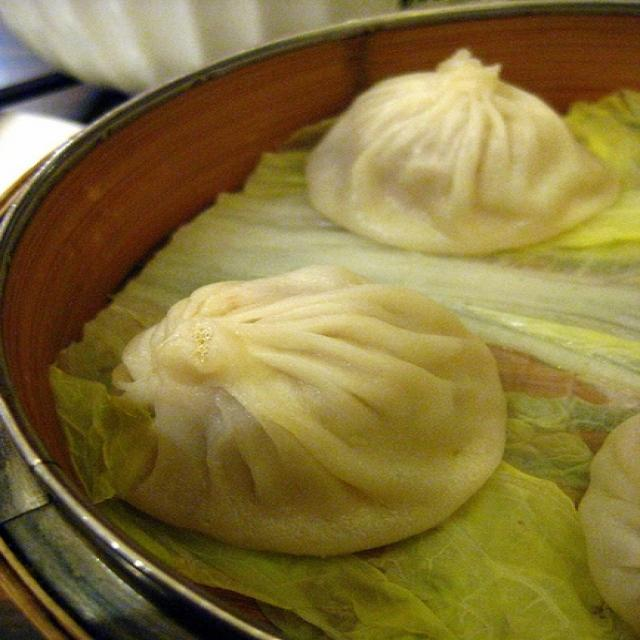带馅早点: (55, 75, 613, 602)
